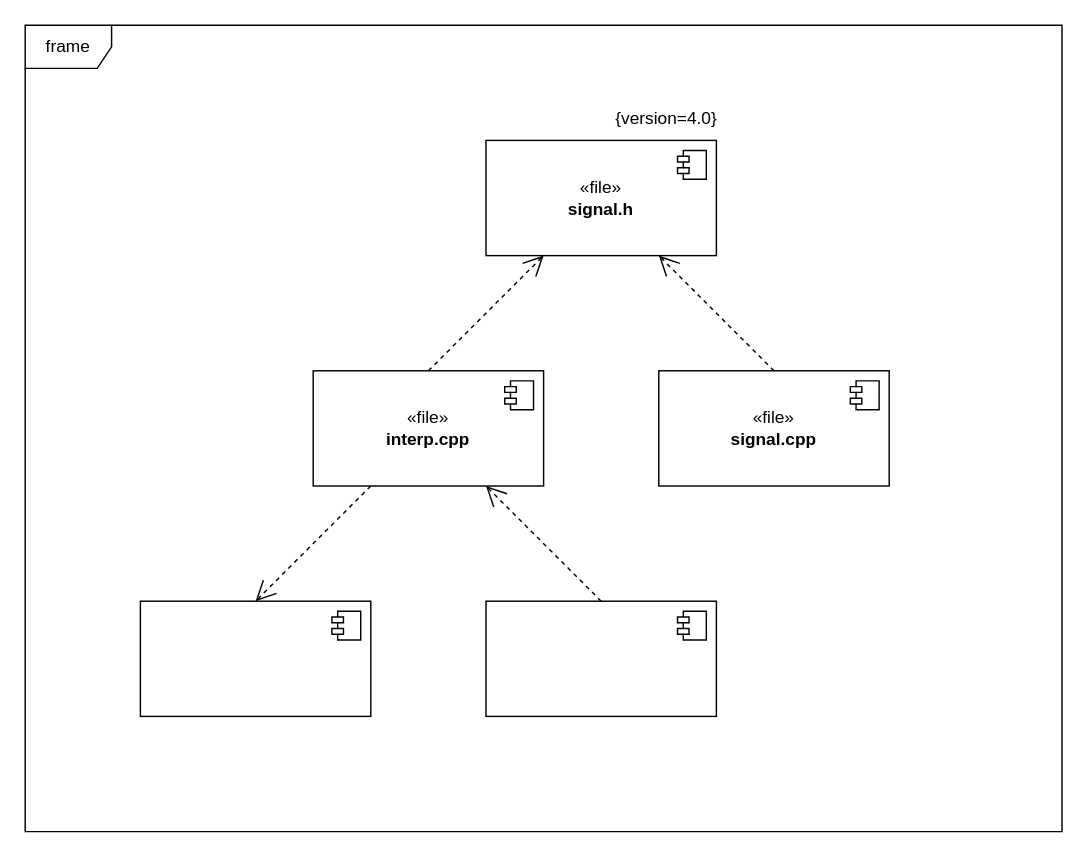
Image size: 1087x857. Some labels were removed from this diagram. The shapes that lost their labels are listed below. From the top down, each one's centre as x and y in pixels, then its label:
point (255, 658): «file» irq.h
point (600, 658): «file» device.cpp
